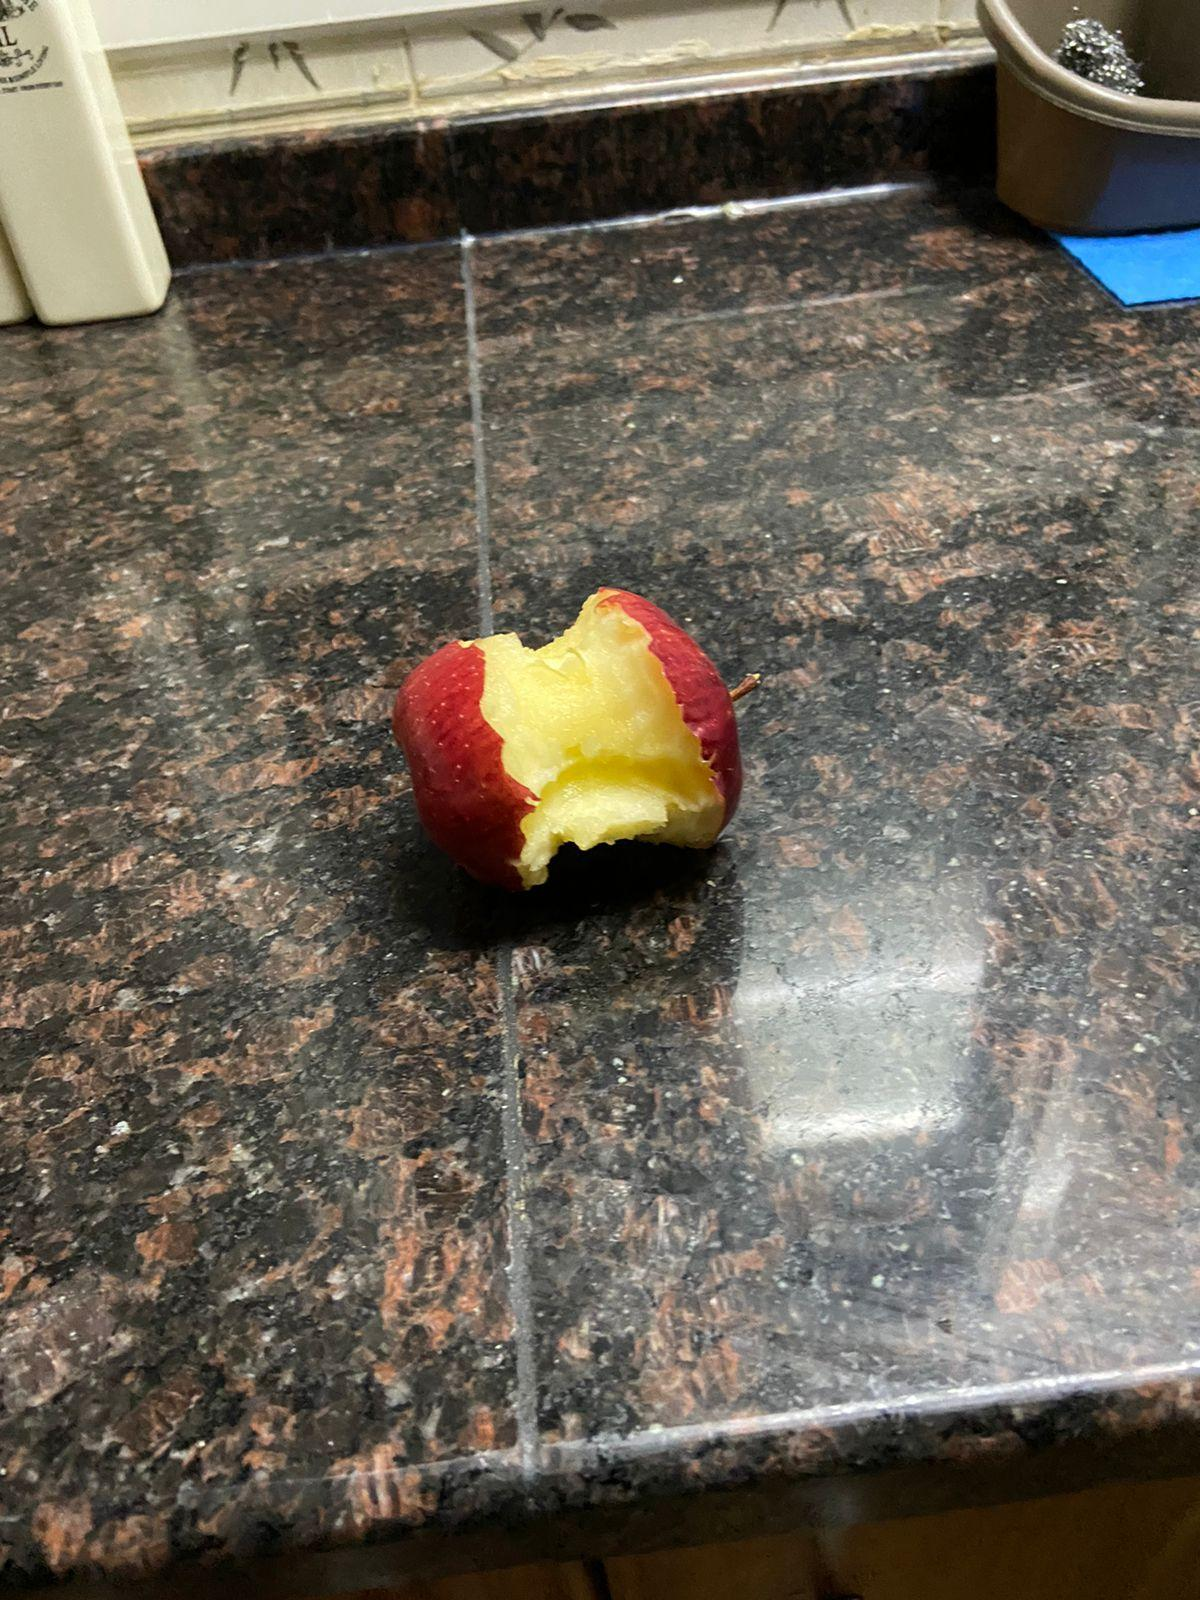Apple: (403, 587, 761, 884)
